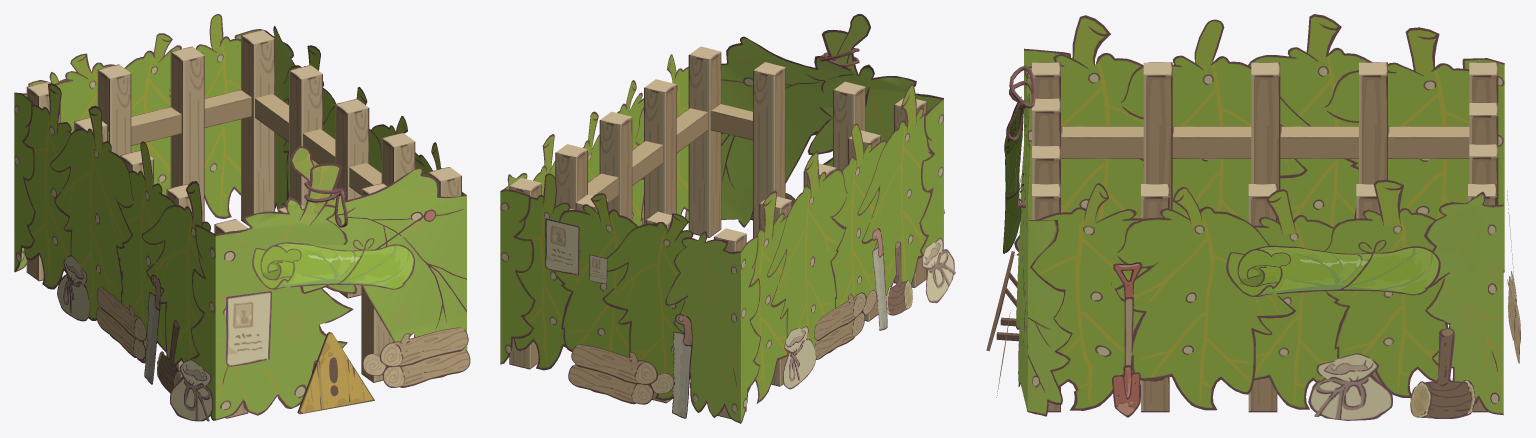
File: Mesh_Home_Construction_43_SM.fbx
3 views of the same model, side by side, from view 1: azimuth 30°, elevation 25°; view 2: azimuth 150°, elevation 25°; view 3: azimuth 270°, elevation 25° (orthographic). The views are drawn at different scales.
Parts seen in each view (by area): view 1: Mesh_Home_Construction_43, Mesh_Home_Construction_43_P; view 2: Mesh_Home_Construction_43_P, Mesh_Home_Construction_43; view 3: Mesh_Home_Construction_43_P, Mesh_Home_Construction_43.
Part boxes in pixels (left/top/right/bottom): Mesh_Home_Construction_43: left=14, top=26, right=467, bottom=420; Mesh_Home_Construction_43_P: left=24, top=14, right=470, bottom=421; Mesh_Home_Construction_43_P: left=514, top=14, right=955, bottom=418; Mesh_Home_Construction_43: left=500, top=36, right=943, bottom=423; Mesh_Home_Construction_43_P: left=996, top=14, right=1520, bottom=420; Mesh_Home_Construction_43: left=986, top=48, right=1504, bottom=416.
Bounding box in the file's own units: 317 × 285 × 449.
Materials: 1 (1 with a texture image).
